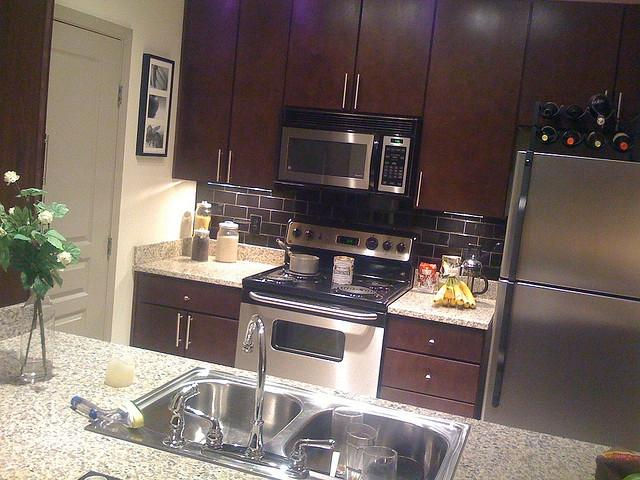banana: (455, 276, 476, 309), (432, 278, 450, 304), (451, 276, 464, 305), (444, 278, 454, 299)
